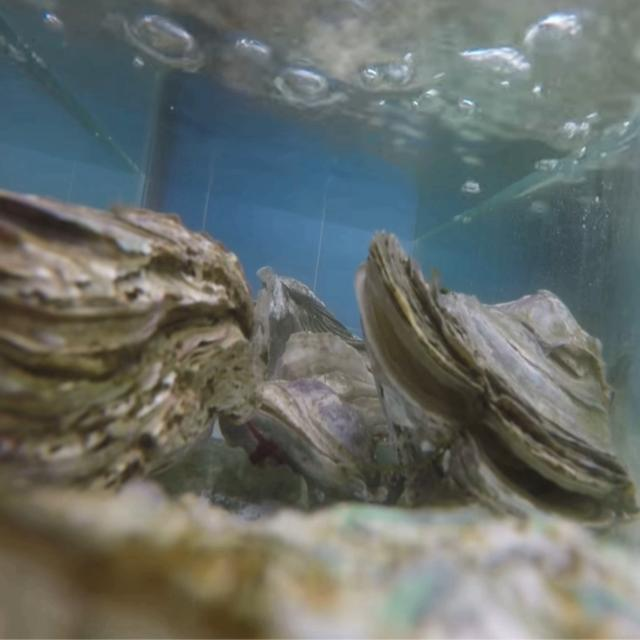Oyster-Closed: (0, 190, 255, 514), (250, 332, 411, 507)
Oyster-Indeterminate: (0, 478, 640, 640), (254, 266, 370, 383)
Oyster-Open: (357, 230, 640, 538)
